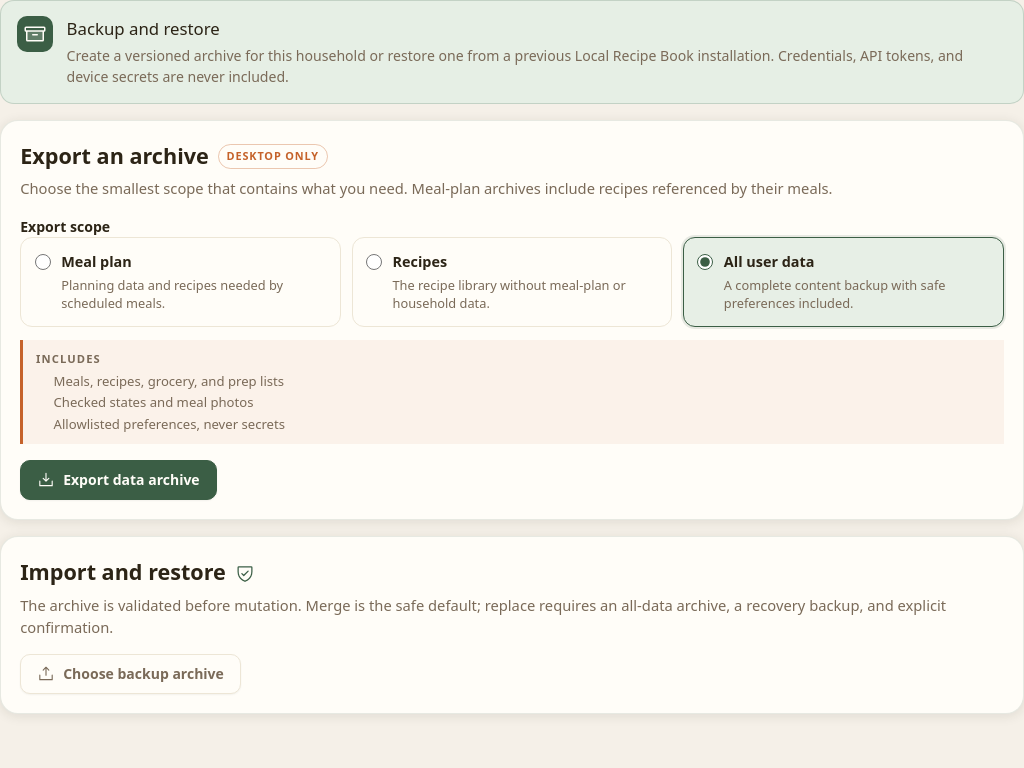
it: DataManagementSection › shows the selected scope inclusion summary
Check: the list item "Allowlisted preferences, never secrets" is shown, box [54,414,285,432]
Click the radio button labelled "Meal plan". click: (43, 262)
box: [35,254,51,270]
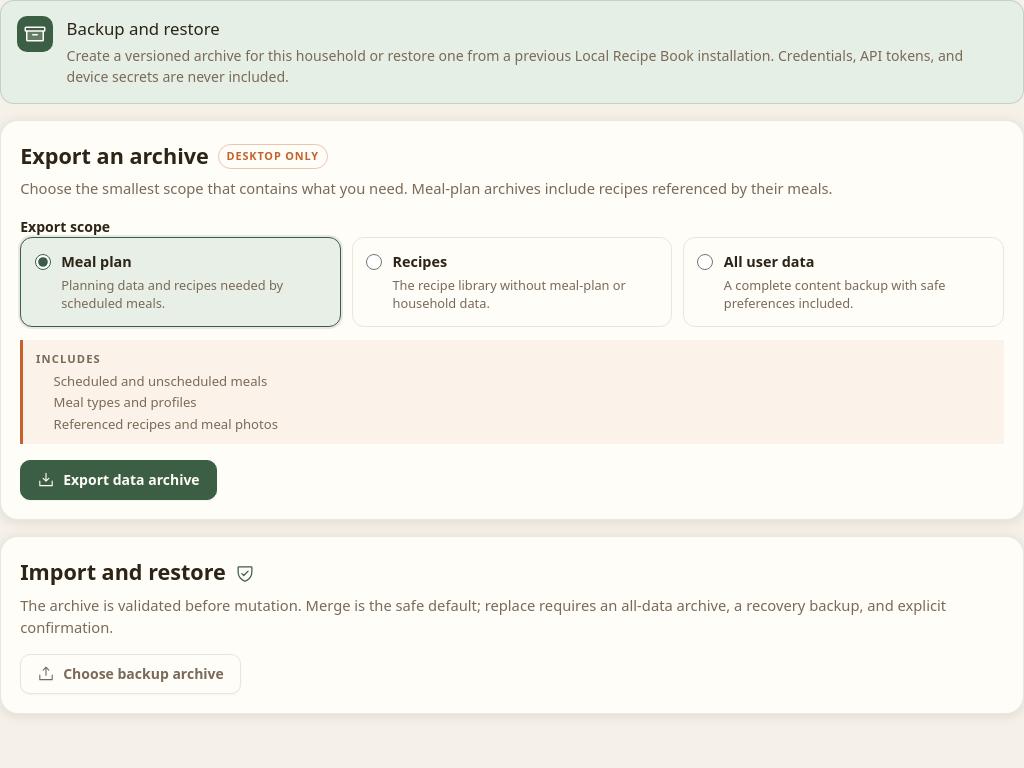
Check: the list item "Scheduled and unscheduled meals" is shown, box [54,372,267,390]
Check: the list item "Referenced recipes and meal photos" is shown, box [54,414,278,432]
Check: the list item "Allowlisted preferences, never secrets" is gone
